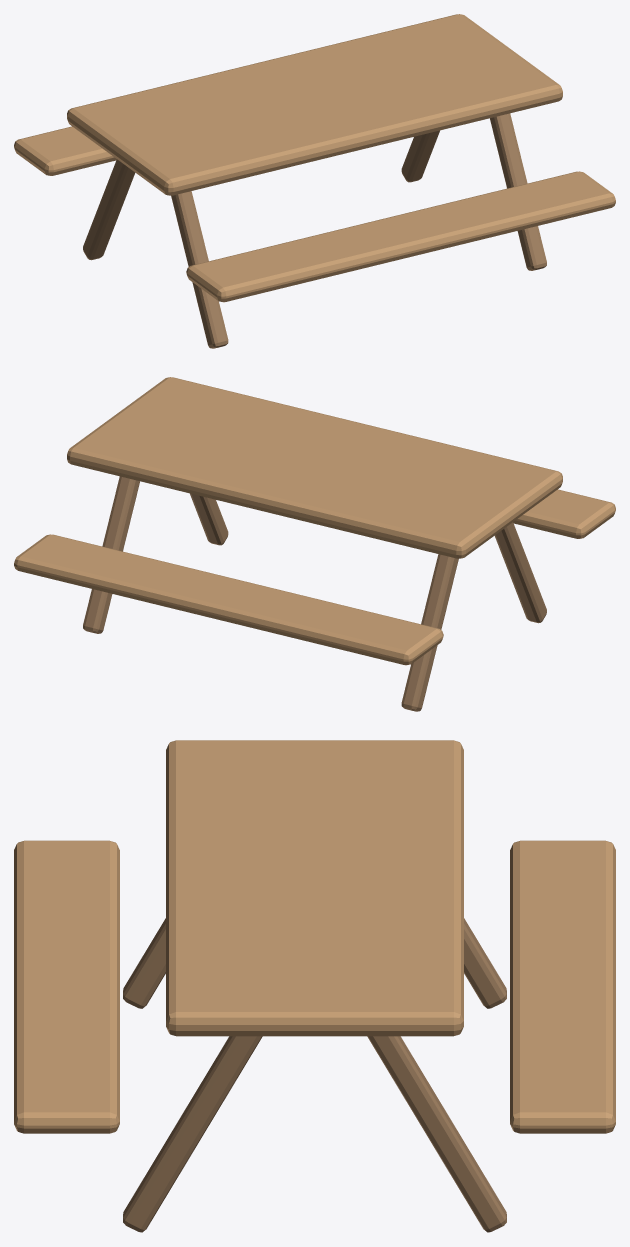
File: picnic_table.fbx
The picture shows the model from 3 angles, top to bottom: view 1: azimuth 30°, elevation 25°; view 2: azimuth 150°, elevation 25°; view 3: azimuth 270°, elevation 25°; orthographic projection. The views are drawn at different scales.
Parts seen in each view (by area): view 1: Visual; view 2: Visual; view 3: Visual.
Boxes of the visible parts, left/top/right/bottom form: Visual: left=14, top=14, right=615, bottom=348; Visual: left=14, top=377, right=615, bottom=711; Visual: left=14, top=740, right=615, bottom=1232.
Size of what is drawn, in the model's own units: 200 by 80.42 by 182.
